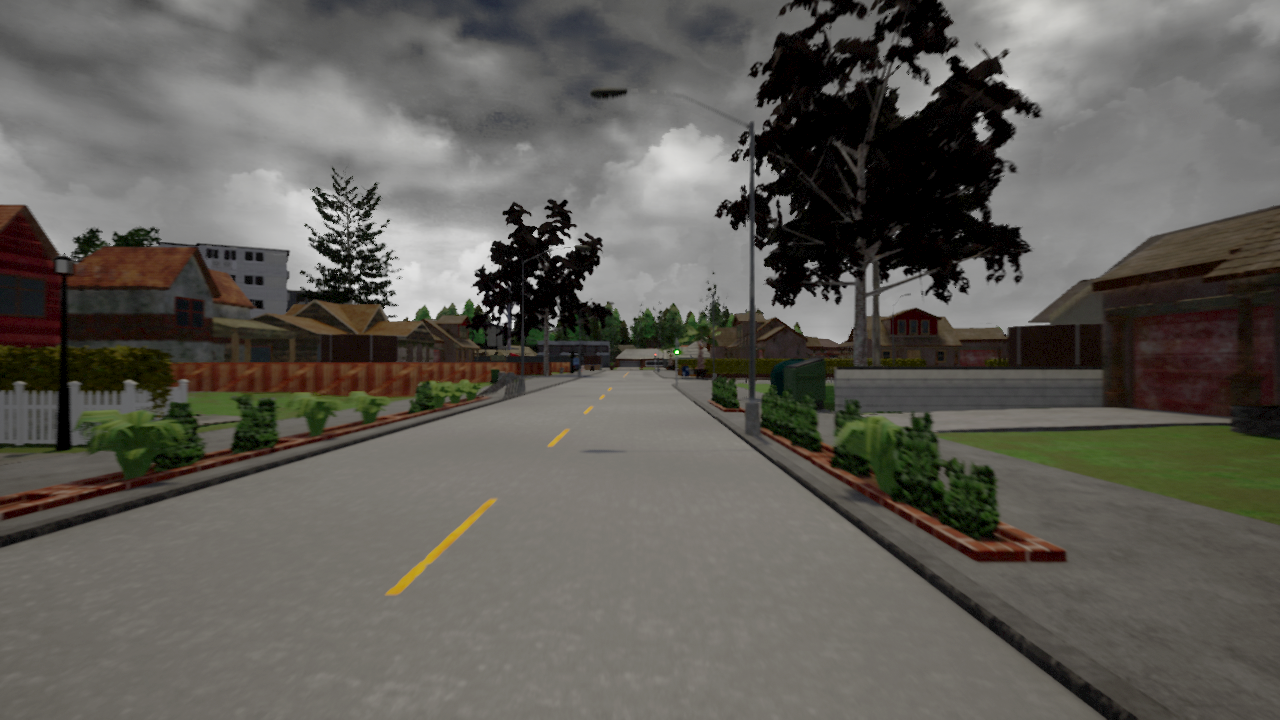green: (674, 340, 680, 355)
